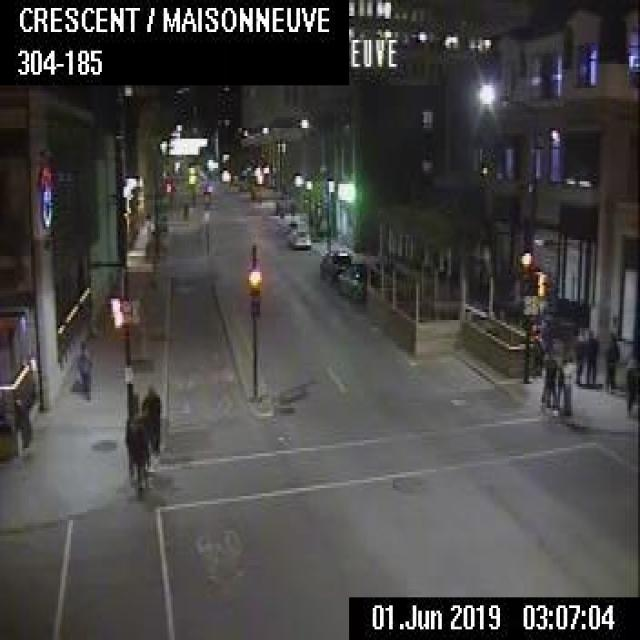pedestrian: (124, 403, 149, 491), (140, 382, 160, 454), (76, 338, 92, 399), (603, 330, 618, 391), (583, 328, 598, 387), (571, 324, 585, 384), (560, 352, 573, 414), (553, 352, 566, 409), (542, 349, 555, 406)
vehicle: (335, 262, 379, 300), (318, 247, 350, 281), (287, 226, 310, 248)
